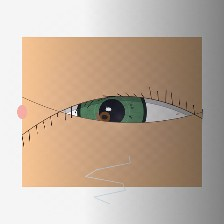foreign_body_visible: (89, 105, 120, 129)
